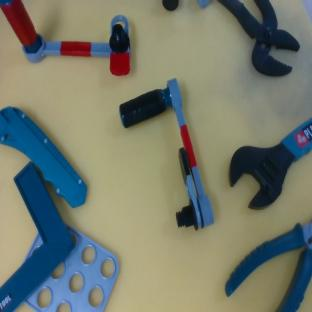non_pass: (114, 78, 216, 241)
